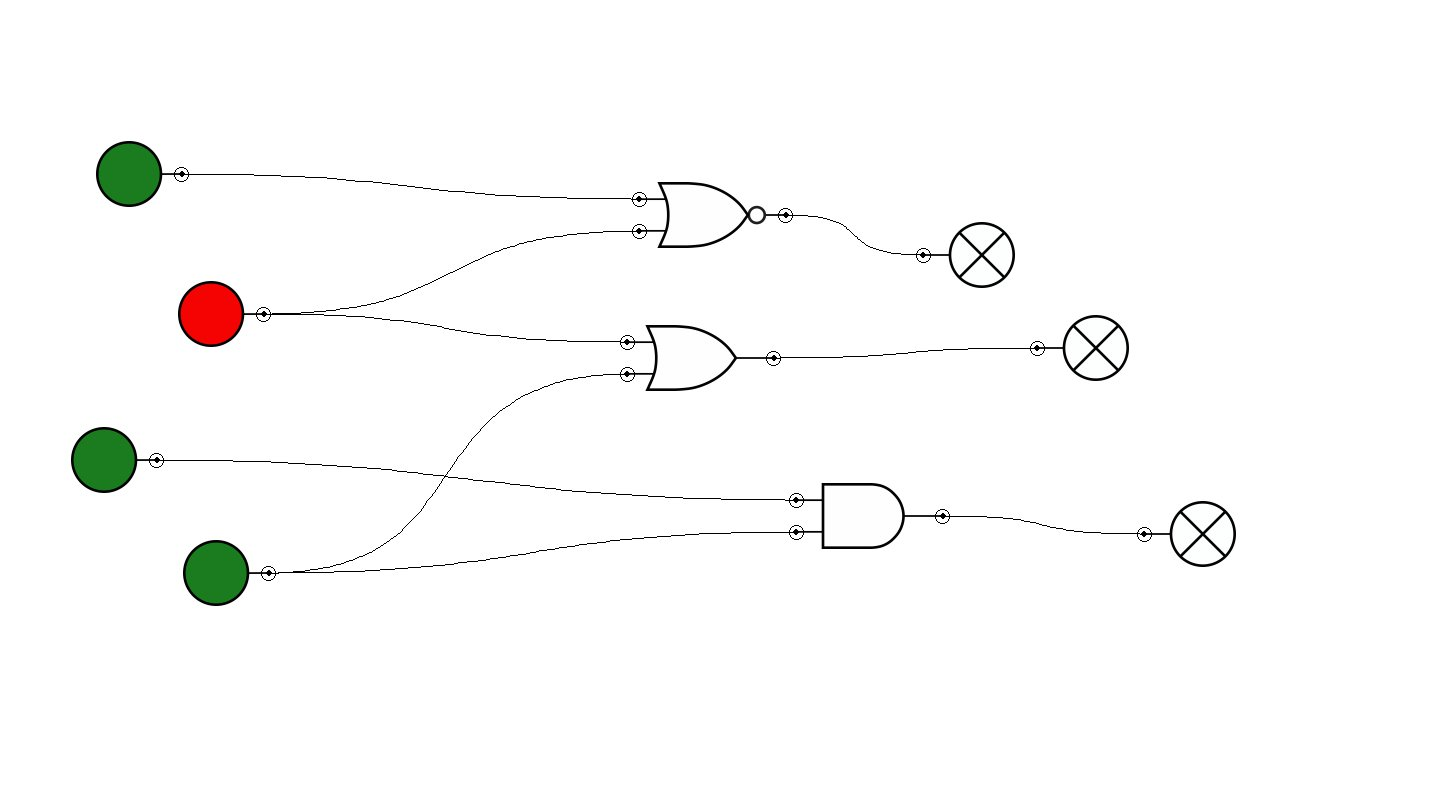and: (789, 483, 950, 549)
bulb: (1030, 315, 1129, 381), (1137, 501, 1236, 567), (916, 222, 1015, 288)
nor: (632, 182, 793, 248)
or: (620, 325, 781, 391)
switch_False: (178, 281, 271, 347)
switch_True: (96, 141, 189, 207), (183, 540, 276, 606), (71, 427, 164, 493)
